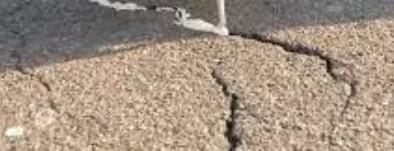crack: (90, 0, 360, 124), (0, 0, 106, 128), (208, 68, 244, 150)
